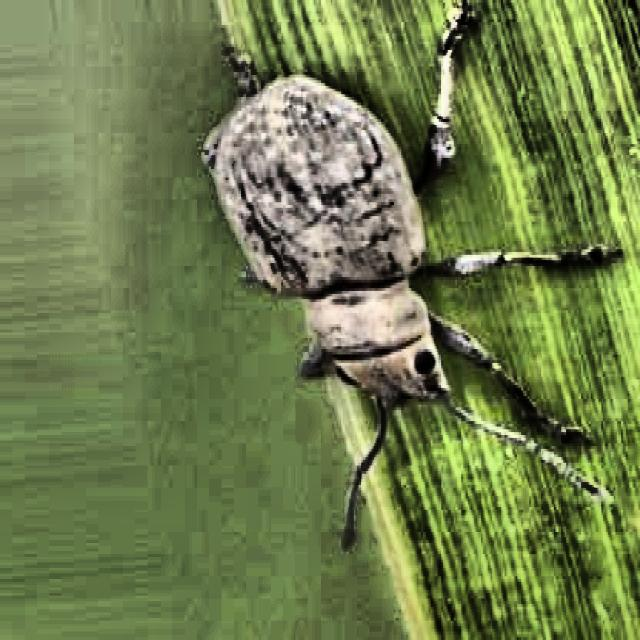Stink bug: (173, 44, 560, 512)
